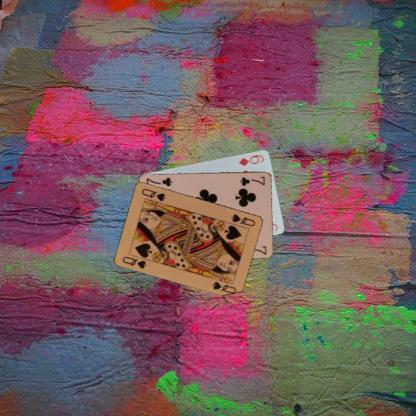6d: (236, 152, 266, 167)
7c: (237, 174, 266, 187)
Qs: (229, 211, 256, 228), (120, 254, 148, 270)
